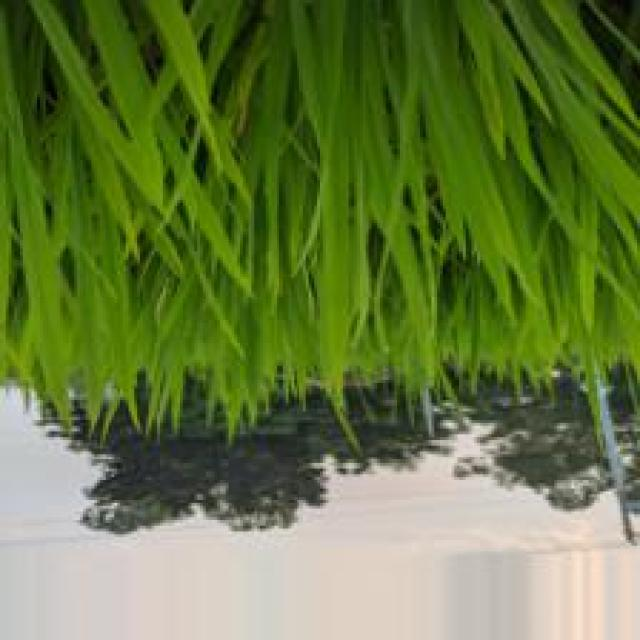HealthyLeaf: (435, 83, 482, 169), (22, 252, 62, 327), (321, 224, 348, 312)
